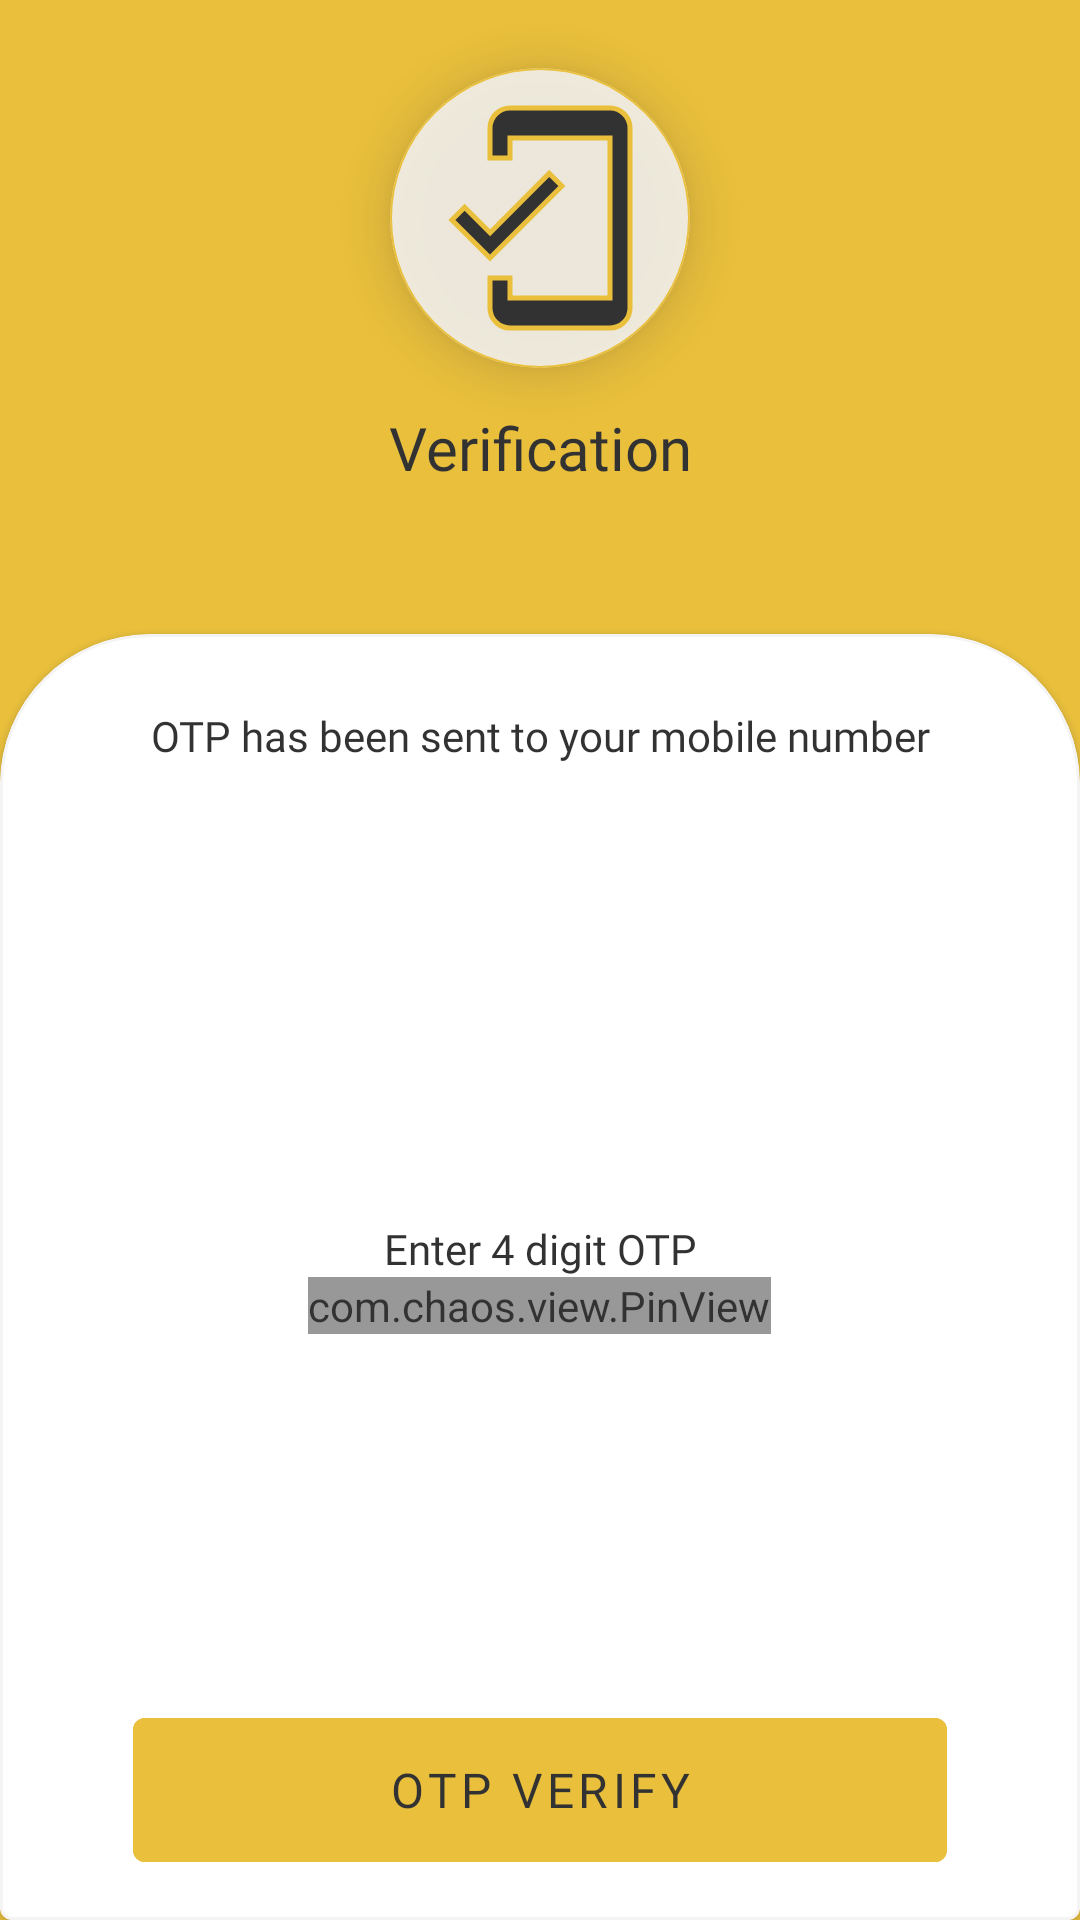

Screen size 1080×1920. Icon name, then its center in pixels as [x,y]:
mobile friendly: [540,218]
